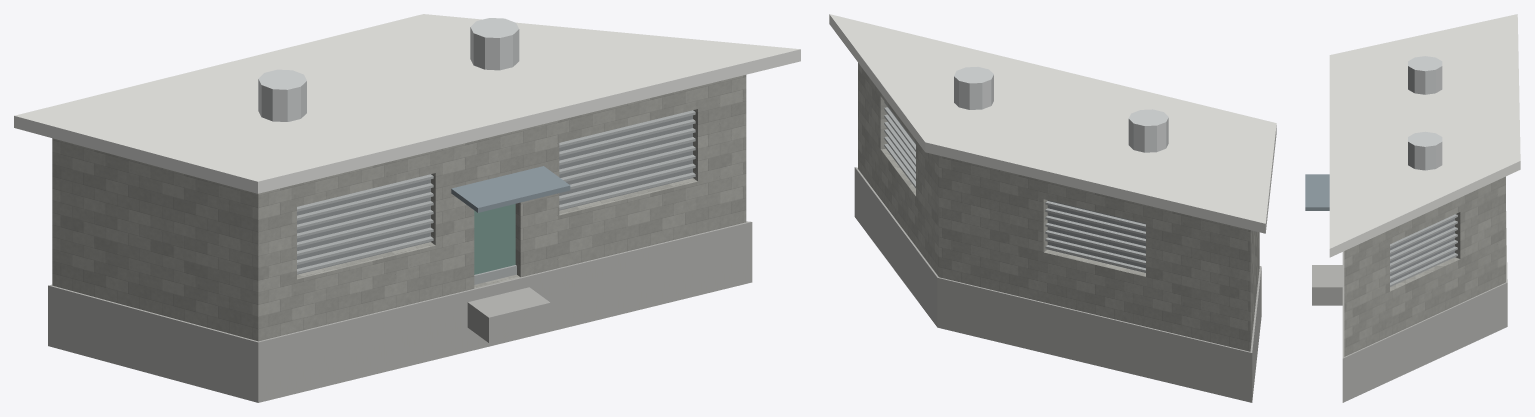
The picture shows the model from 3 angles, left to right: view 1: azimuth 30°, elevation 25°; view 2: azimuth 150°, elevation 25°; view 3: azimuth 270°, elevation 25°; orthographic projection. The views are drawn at different scales.
Visible parts, largest first — view 1: SA2 grey concrete block walls, SA2 white eave slab, SA2 concrete base, SA2 louvre blades, SA2 dark grey louvres, SA2 rooftop ventilation fans, SA2 metal awning, SA2 green steel door; view 2: SA2 white eave slab, SA2 grey concrete block walls, SA2 concrete base, SA2 louvre blades, SA2 rooftop ventilation fans, SA2 dark grey louvres; view 3: SA2 white eave slab, SA2 grey concrete block walls, SA2 concrete base, SA2 rooftop ventilation fans, SA2 louvre blades, SA2 dark grey louvres, SA2 metal awning.
Boxes of the visible parts, x1,y1,x2,y2 form: SA2 grey concrete block walls: (52, 75, 746, 341); SA2 white eave slab: (14, 14, 800, 193); SA2 concrete base: (48, 221, 752, 402); SA2 louvre blades: (297, 110, 695, 284); SA2 dark grey louvres: (297, 115, 692, 274); SA2 rooftop ventilation fans: (258, 18, 519, 121); SA2 metal awning: (451, 166, 570, 212); SA2 green steel door: (474, 204, 515, 274); SA2 white eave slab: (829, 14, 1276, 233); SA2 grey concrete block walls: (858, 63, 1259, 351); SA2 concrete base: (854, 167, 1261, 402); SA2 louvre blades: (884, 101, 1145, 272); SA2 rooftop ventilation fans: (954, 67, 1168, 152); SA2 dark grey louvres: (1047, 200, 1145, 272); SA2 white eave slab: (1329, 14, 1520, 257); SA2 grey concrete block walls: (1344, 176, 1505, 356); SA2 concrete base: (1312, 211, 1507, 402); SA2 rooftop ventilation fans: (1408, 56, 1442, 170); SA2 louvre blades: (1390, 214, 1457, 286); SA2 dark grey louvres: (1390, 218, 1454, 282); SA2 metal awning: (1305, 174, 1329, 210).
Size of the model in its own units: 17.07 by 6.5 by 6.61.
Materials: 8 (1 with a texture image).
